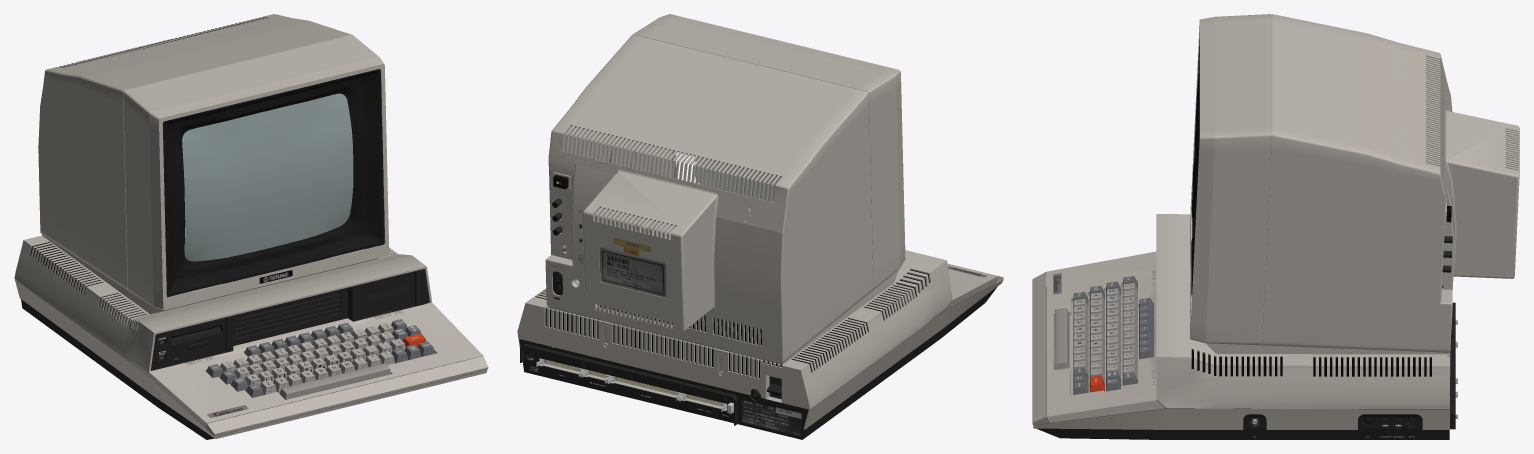
Rendered from computer.glb.
The picture shows the model from 3 angles, left to right: view 1: azimuth 30°, elevation 25°; view 2: azimuth 150°, elevation 25°; view 3: azimuth 270°, elevation 25°; orthographic projection. The views are drawn at different scales.
Visible parts, largest first — view 1: SCREEN_PLAST, CRT, OVERLAY, CACHE_2, Cube_1_E, Cube_1_Cube_4, KEYLOW, KEY_HIGH, Cube_1_Extrusion_2, Cube_1_Extrusion_1_Extrusion_1_Extrusion_2, CACHE, BLACK_PLAST_2 (+4 smaller); view 2: SCREEN_PLAST, CACHE_2, CACHE, Cube_1_Extrusion_1_Extrusion_1_Extrusion_2, BLACK_PLAST_2, STICK_2, STICK_3, Cube_1_E, Extrusion_1, CRT, BLACK_PLAST, Cube_Cube_6_Cube_Cube; view 3: SCREEN_PLAST, CACHE_2, Cube_1_E, Cube_1_Extrusion_1_Extrusion_1_Extrusion_2, CACHE, KEYLOW, KEY_HIGH, BLACK_PLAST_2, Cube_1_Extrusion_2, OVERLAY, Extrusion_1.
Part boxes in pixels (bbox=[...]): SCREEN_PLAST: bbox=[38, 14, 389, 314]; CRT: bbox=[182, 93, 353, 261]; OVERLAY: bbox=[162, 69, 384, 297]; CACHE_2: bbox=[14, 235, 431, 373]; Cube_1_E: bbox=[146, 302, 483, 427]; Cube_1_Cube_4: bbox=[151, 269, 429, 370]; KEYLOW: bbox=[206, 322, 434, 399]; KEY_HIGH: bbox=[208, 319, 432, 390]; Cube_1_Extrusion_2: bbox=[206, 356, 488, 436]; Cube_1_Extrusion_1_Extrusion_1_Extrusion_2: bbox=[14, 279, 487, 438]; CACHE: bbox=[18, 281, 481, 439]; BLACK_PLAST_2: bbox=[30, 242, 395, 329]; SCREEN_PLAST: bbox=[545, 14, 905, 364]; CACHE_2: bbox=[517, 250, 952, 409]; CACHE: bbox=[519, 283, 997, 439]; Cube_1_Extrusion_1_Extrusion_1_Extrusion_2: bbox=[518, 280, 1002, 429]; BLACK_PLAST_2: bbox=[536, 269, 929, 378]; STICK_2: bbox=[599, 247, 666, 297]; STICK_3: bbox=[742, 399, 801, 435]; Cube_1_E: bbox=[946, 263, 998, 309]; Extrusion_1: bbox=[520, 344, 737, 425]; CRT: bbox=[695, 157, 780, 201]; BLACK_PLAST: bbox=[596, 305, 761, 345]; Cube_Cube_6_Cube_Cube: bbox=[610, 375, 681, 399]; SCREEN_PLAST: bbox=[1190, 14, 1519, 354]; CACHE_2: bbox=[1156, 214, 1450, 408]; Cube_1_E: bbox=[1046, 251, 1165, 422]; Cube_1_Extrusion_1_Extrusion_1_Extrusion_2: bbox=[1033, 280, 1449, 429]; CACHE: bbox=[1036, 287, 1449, 439]; KEYLOW: bbox=[1054, 277, 1153, 394]; KEY_HIGH: bbox=[1074, 276, 1150, 387]; BLACK_PLAST_2: bbox=[1191, 350, 1431, 376]; Cube_1_Extrusion_2: bbox=[1032, 272, 1048, 425]; OVERLAY: bbox=[1191, 39, 1199, 296]; Extrusion_1: bbox=[1446, 302, 1455, 429].
Bounding box in the file's own units: 1.51 × 1.42 × 2.07.
Materials: 36 (13 with a texture image).
